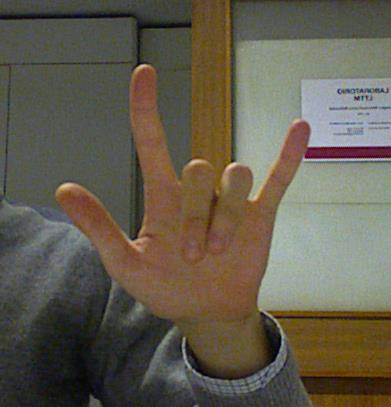back: (53, 61, 313, 329)
